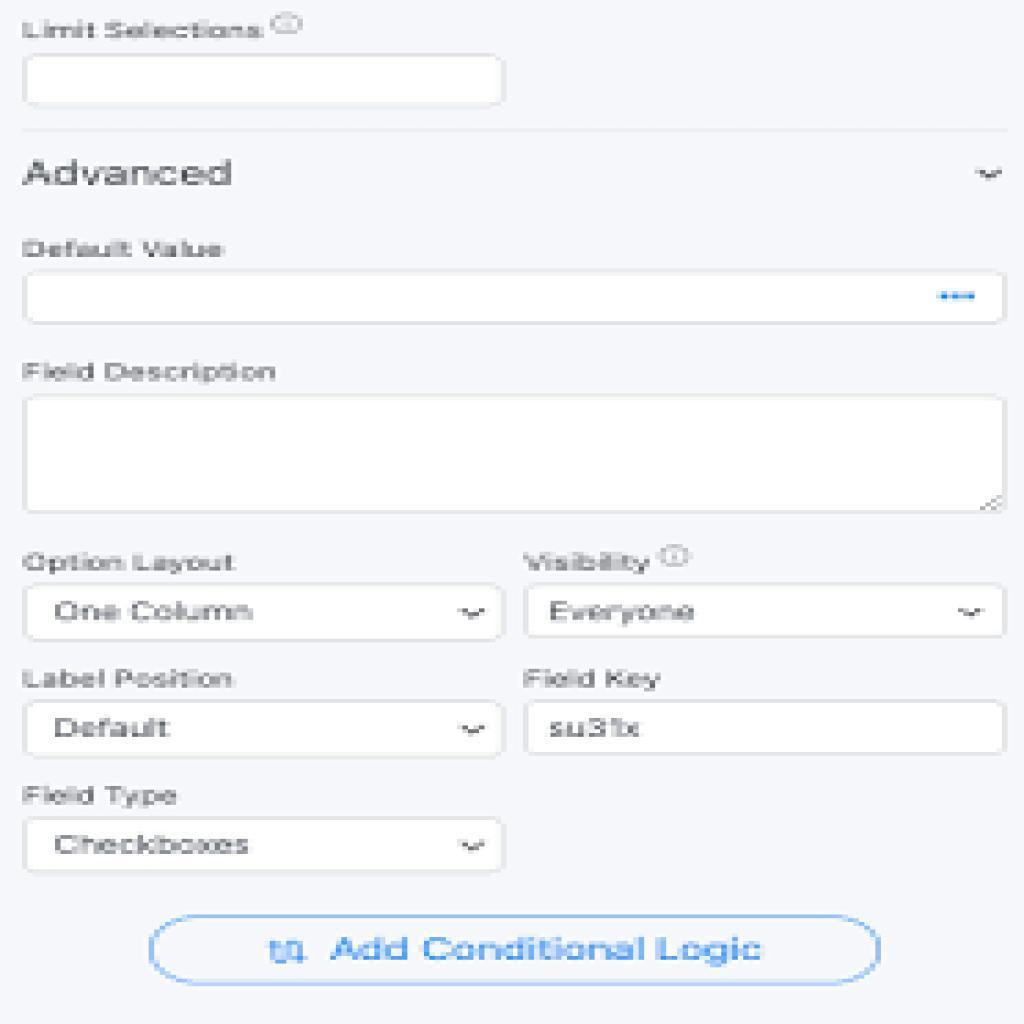button: (145, 911, 883, 989)
dropdown: (27, 582, 506, 647), (524, 583, 1010, 642), (22, 700, 508, 758), (20, 818, 509, 871)
icon: (968, 157, 1013, 195)
input: (25, 272, 1005, 327), (25, 57, 505, 107), (524, 704, 1011, 750)
